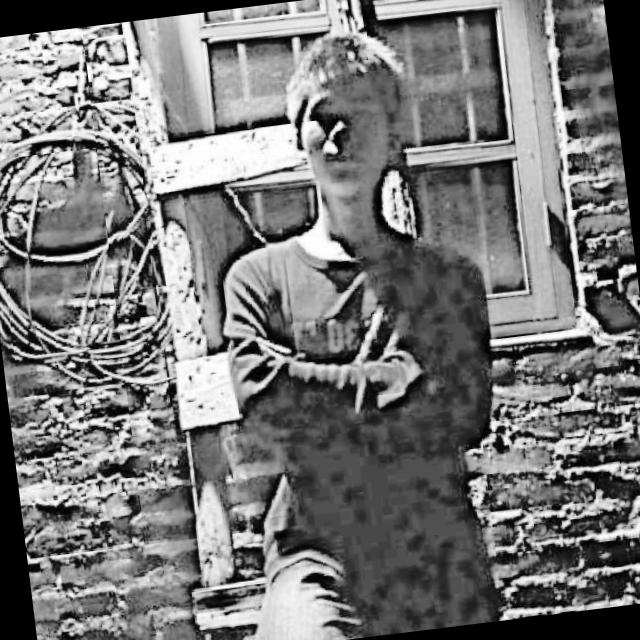Person: (166, 13, 531, 640)
